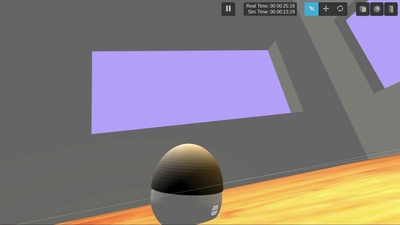mira_robot: (151, 143, 223, 225)
